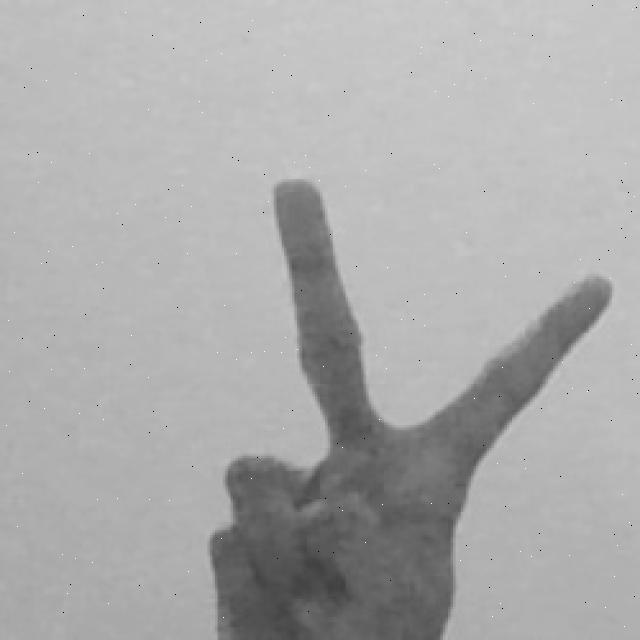V: (200, 166, 617, 640)
